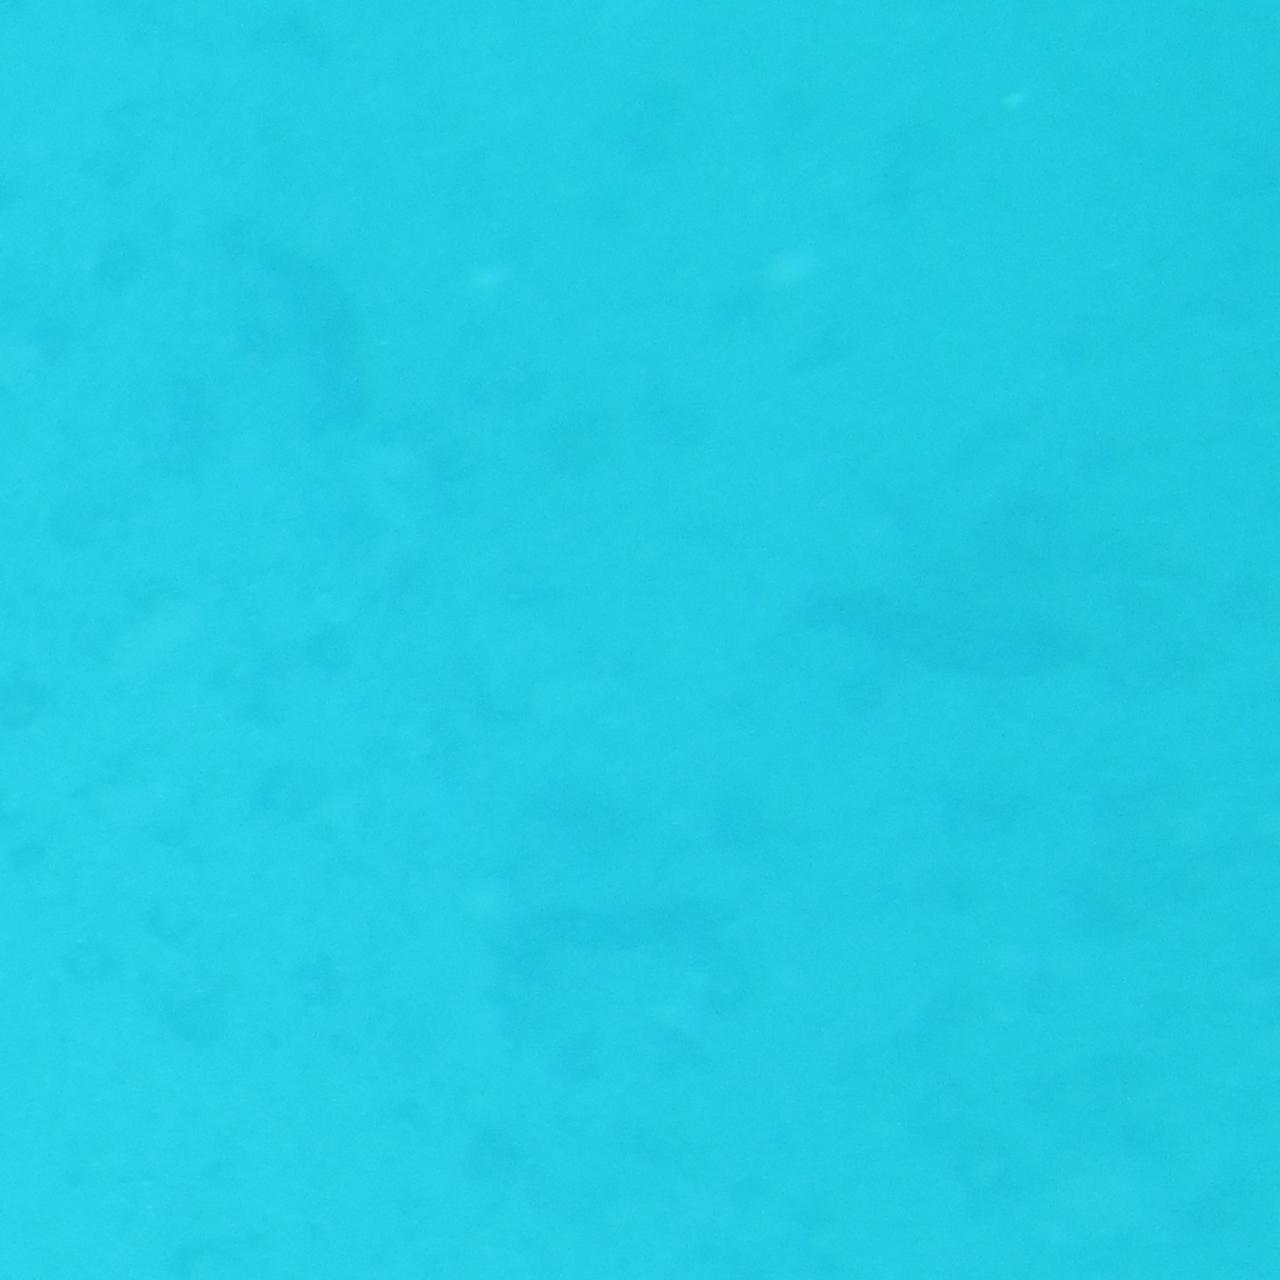Holothuria tubulosa: (806, 558, 1137, 706), (236, 202, 396, 452), (481, 898, 772, 1008)
